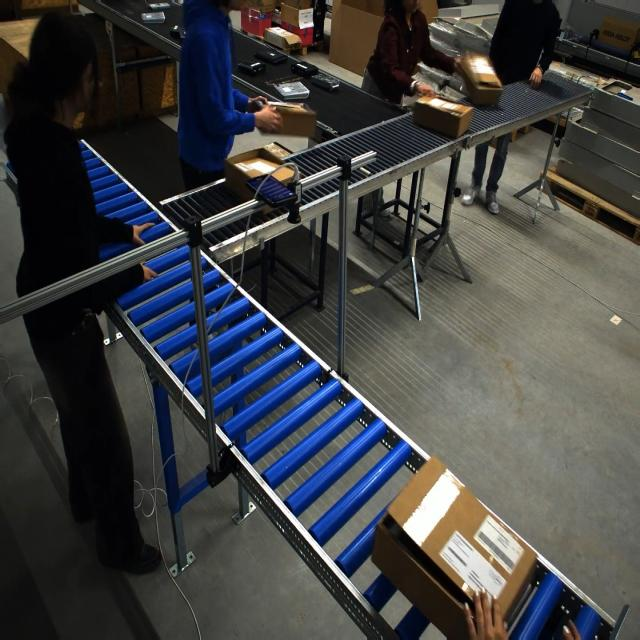box: (379, 458, 536, 640), (225, 144, 301, 206), (412, 94, 473, 139), (456, 55, 502, 105), (253, 102, 315, 138)
product: (272, 80, 310, 100), (254, 50, 286, 66), (310, 74, 339, 91), (292, 59, 318, 77), (237, 60, 265, 75), (141, 11, 166, 23), (268, 76, 301, 85), (169, 25, 186, 39), (146, 2, 170, 10)
